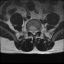CCS_stenosis: (33, 29, 34, 36)
LFS_normal: (36, 28, 38, 33)
LLS_normal: (34, 29, 36, 35)
RFS_normal: (29, 28, 31, 34)
RLS_normal: (31, 29, 33, 35)
